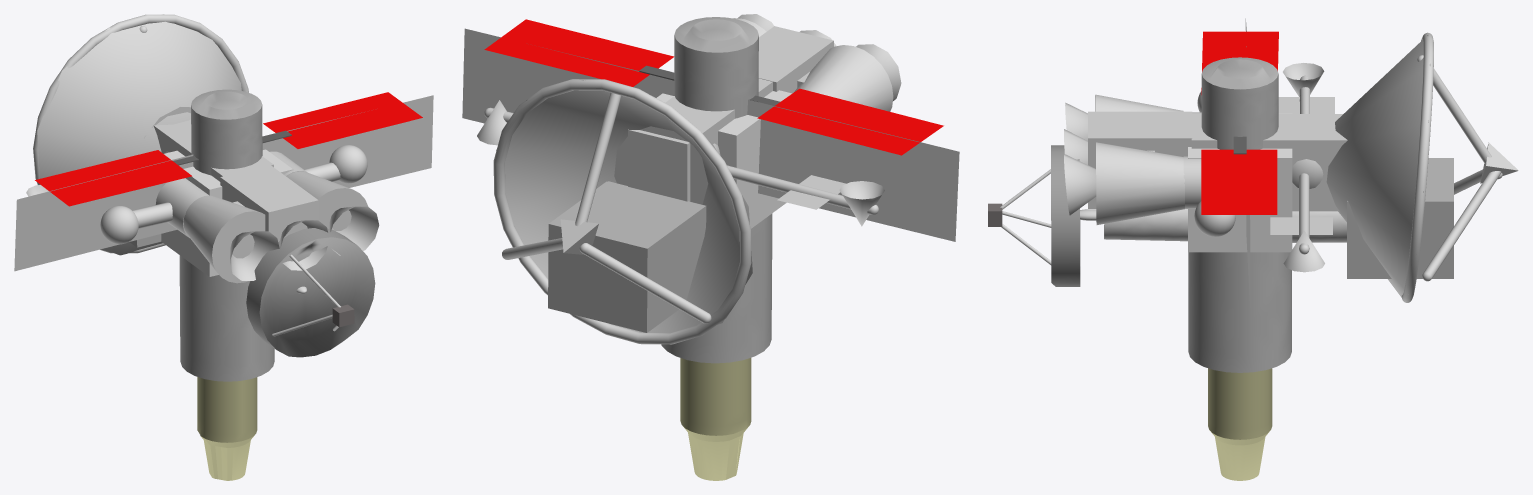
File: satellite_target.dae
3 renders of one model, left to right at view 1: azimuth 30°, elevation 25°; view 2: azimuth 150°, elevation 25°; view 3: azimuth 270°, elevation 25°, orthographic. The views are drawn at different scales.
Parts seen in each view (by area): view 1: Cone, Cylinder3, Satellite, Plane.001, Plane1.001, Cylinder, Cylinder7, Plane, Plane1, Cylinder2.001, Box4, Torus (+10 smaller); view 2: Cone, Box2, Plane.001, Torus, Cylinder, Cylinder7, Plane1.001, Plane1, Plane, Satellite, Box.001, Cylinder2.001 (+12 smaller); view 3: Cone, Satellite, Cylinder, Cylinder7, Cylinder3.001, Plane1, Box2, Box.001, Box4, Cube, Cylinder3, Torus (+18 smaller).
Part boxes in pixels (<box>): Cone: <box>37,14,241,255</box>; Cylinder3: <box>246,228,375,357</box>; Satellite: <box>179,255,274,381</box>; Plane.001: <box>14,154,193,271</box>; Plane1.001: <box>262,95,433,187</box>; Cylinder: <box>191,89,262,175</box>; Cylinder7: <box>197,377,257,480</box>; Plane: <box>35,150,192,206</box>; Plane1: <box>263,92,422,148</box>; Cylinder2.001: <box>183,195,265,283</box>; Box4: <box>220,165,318,241</box>; Torus: <box>33,14,248,253</box>; Cone: <box>496,80,752,333</box>; Box2: <box>548,181,706,332</box>; Plane.001: <box>747,99,959,241</box>; Torus: <box>493,79,751,344</box>; Cylinder: <box>674,17,758,118</box>; Cylinder7: <box>680,358,751,480</box>; Plane1.001: <box>462,28,674,123</box>; Plane1: <box>484,19,673,86</box>; Plane: <box>757,88,943,155</box>; Satellite: <box>661,213,772,363</box>; Box.001: <box>628,78,772,201</box>; Cylinder2.001: <box>794,45,893,111</box>; Cone: <box>1326,35,1430,297</box>; Satellite: <box>1188,252,1291,372</box>; Cylinder: <box>1201,57,1278,149</box>; Cylinder7: <box>1208,368,1272,480</box>; Cylinder3.001: <box>1096,142,1184,224</box>; Plane1: <box>1201,149,1277,214</box>; Box2: <box>1347,158,1453,278</box>; Box.001: <box>1191,114,1347,211</box>; Box4: <box>1088,111,1192,208</box>; Cube: <box>1188,113,1292,252</box>; Cylinder3: <box>1051,145,1080,286</box>; Torus: <box>1401,32,1433,302</box>.
Bounding box in the file's own units: 9.99 × 10.18 × 9.
